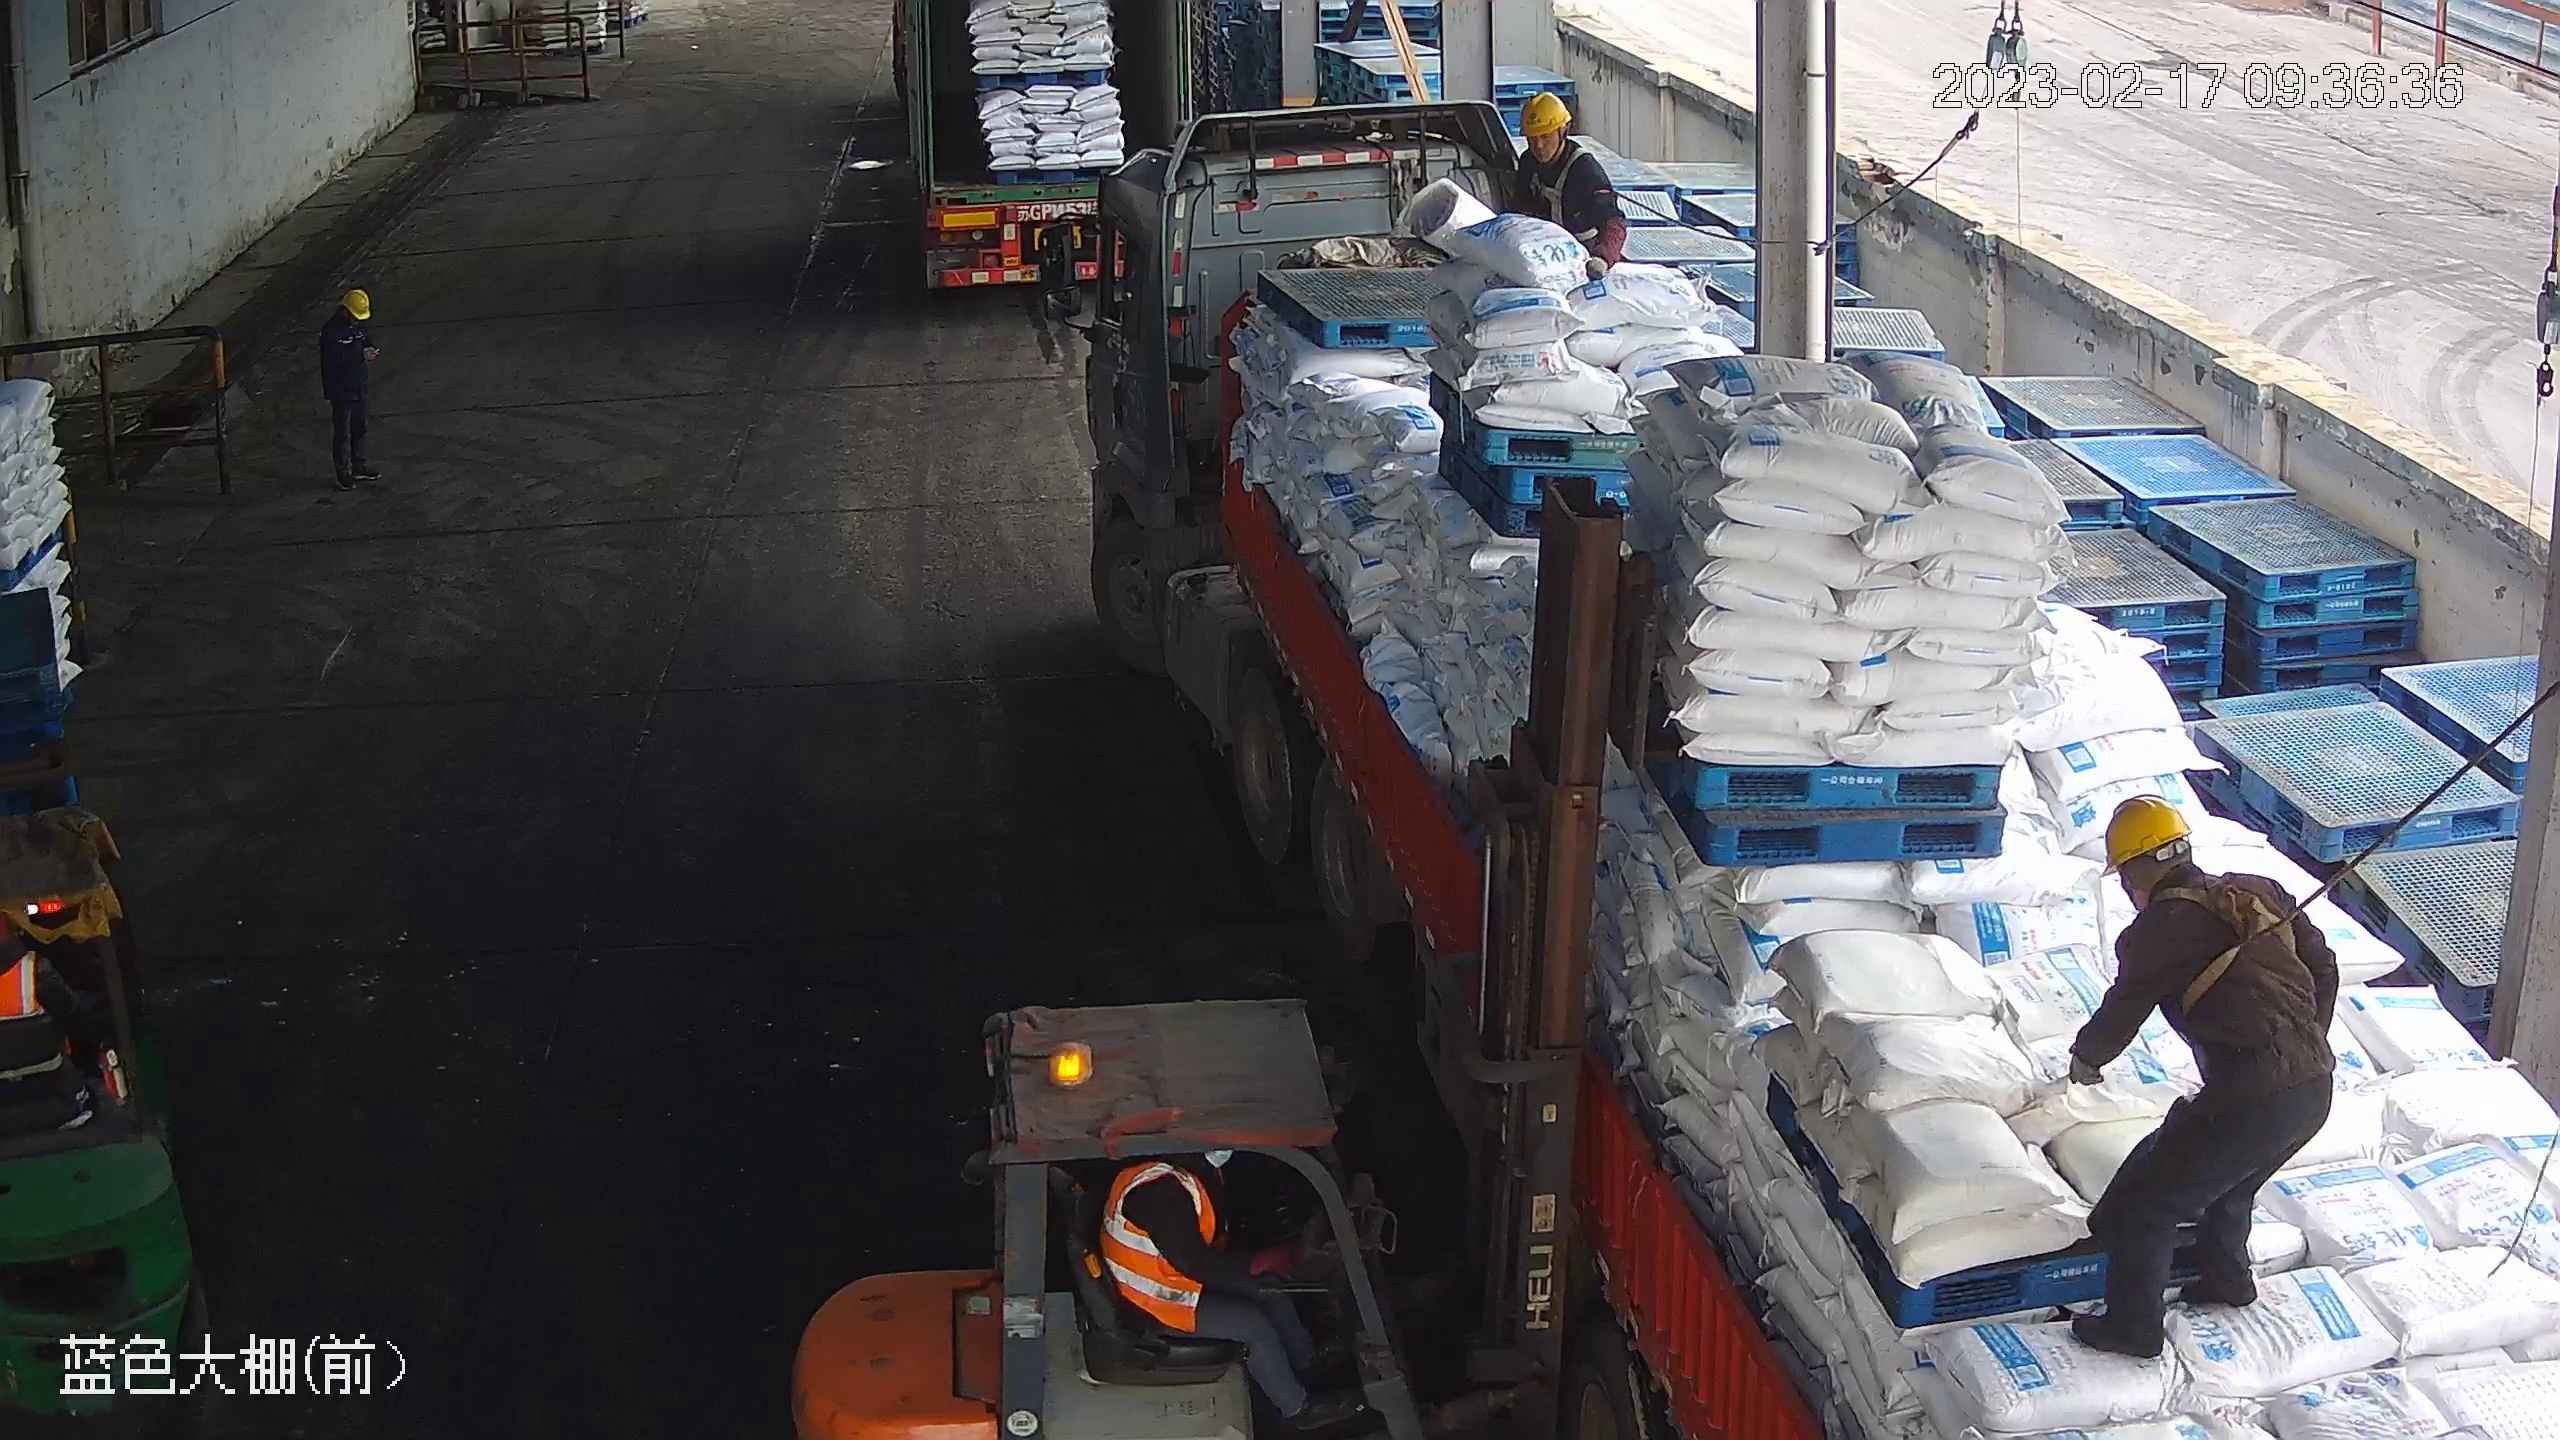belt: (2160, 877, 2299, 1010), (1520, 146, 1592, 207)
head: (2091, 797, 2284, 958), (1505, 88, 1611, 187), (317, 287, 375, 350)
helmet: (2095, 793, 2194, 870), (1515, 89, 1573, 136), (341, 286, 370, 315)
people: (2044, 793, 2340, 1364), (1094, 1146, 1343, 1424), (317, 287, 385, 490)
truck: (1036, 90, 2556, 1440), (876, 2, 1209, 313)
